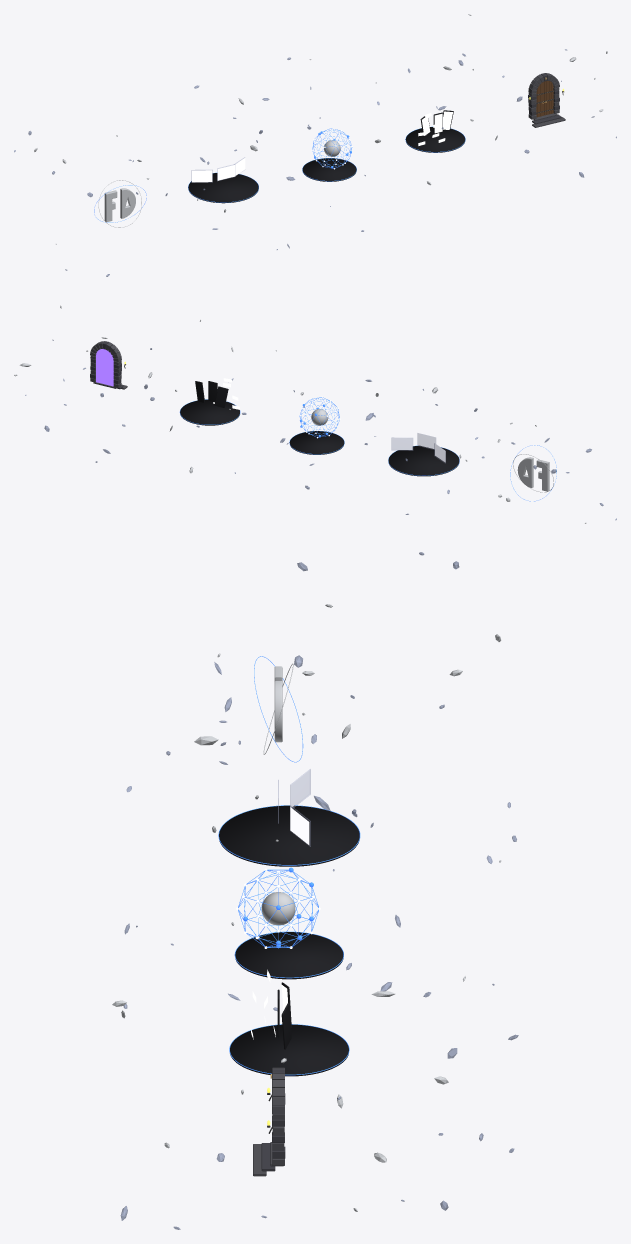
Rendered from world.glb.
The picture shows the model from 3 angles, top to bottom: view 1: azimuth 30°, elevation 25°; view 2: azimuth 150°, elevation 25°; view 3: azimuth 270°, elevation 25°; orthographic projection. The views are drawn at different scales.
Visible parts, largest first — view 1: Plinth_Web, Plinth_Apps, Plinth_IA, FDA_Monogram, IA_Net; view 2: Plinth_Web, Plinth_Apps, Plinth_IA, FDA_Monogram, IA_Net, Door_PortalBody; view 3: Plinth_Web, Plinth_Apps, Plinth_IA, IA_Net, IA_Core.
Boxes of the visible parts, box(x1,y1,x2,y2) form: Plinth_Web: box(188, 173, 258, 203); Plinth_Apps: box(405, 127, 465, 152); Plinth_IA: box(302, 158, 356, 181); FDA_Monogram: box(104, 188, 135, 222); IA_Net: box(312, 128, 352, 168); Plinth_Web: box(388, 445, 459, 476); Plinth_Apps: box(180, 399, 239, 425); Plinth_IA: box(289, 431, 344, 454); FDA_Monogram: box(517, 457, 549, 491); IA_Net: box(299, 397, 339, 437); Door_PortalBody: box(96, 356, 113, 386); Plinth_Web: box(219, 805, 359, 866); Plinth_Apps: box(230, 1024, 348, 1076); Plinth_IA: box(235, 932, 343, 979); IA_Net: box(238, 869, 318, 947); IA_Core: box(261, 892, 295, 925).
Size of the model in its own units: 48.09 by 9.07 by 14.97.
